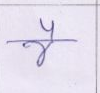ai_matra: (39, 16, 57, 39)
